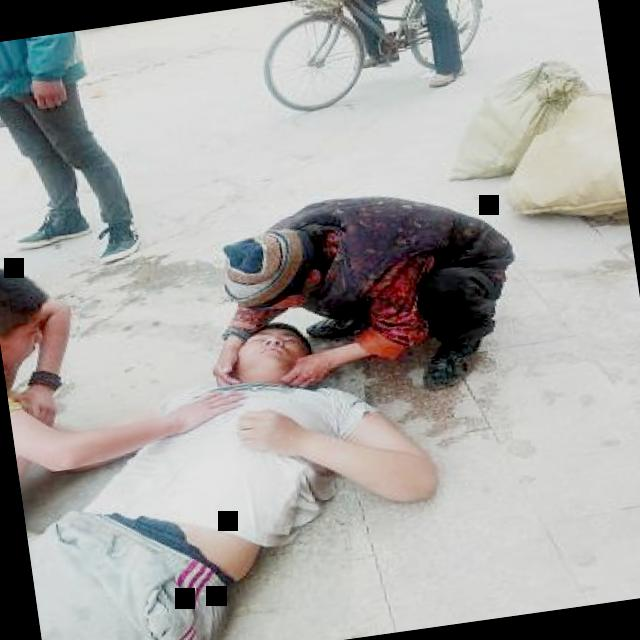Fall-Detected: (2, 286, 468, 640)
